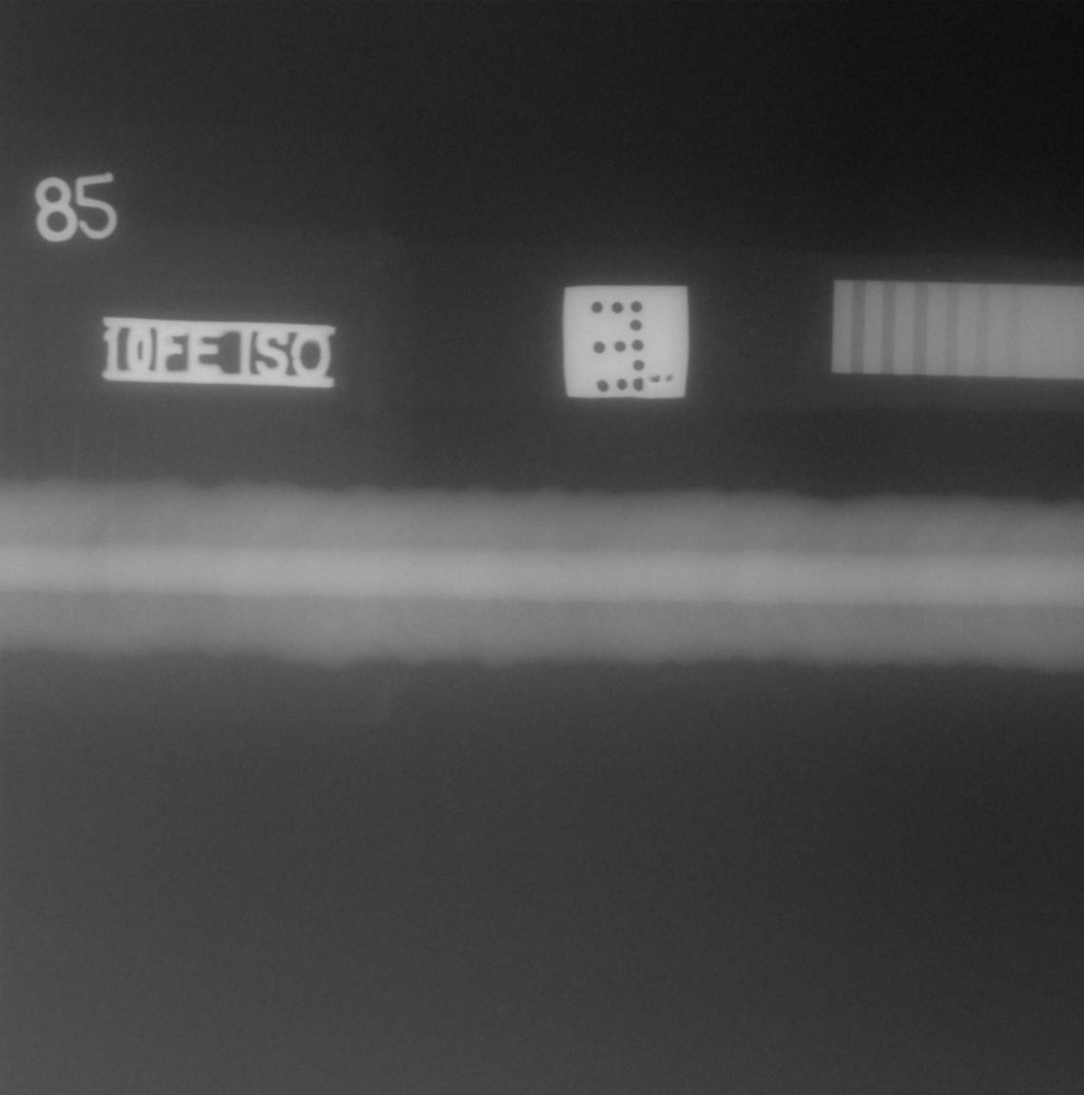Pore/Porosity: (410, 562, 417, 566), (559, 563, 562, 567)
